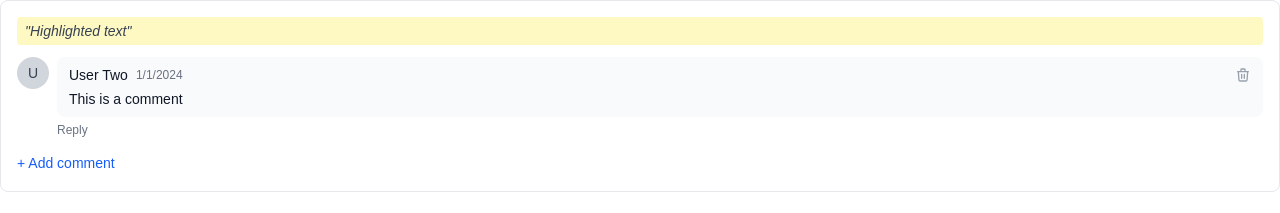
Scenario: CommentThread › should show delete confirmation for comments
Click the button titled "Delete comment": (1243, 75) [1235,67,1251,83]
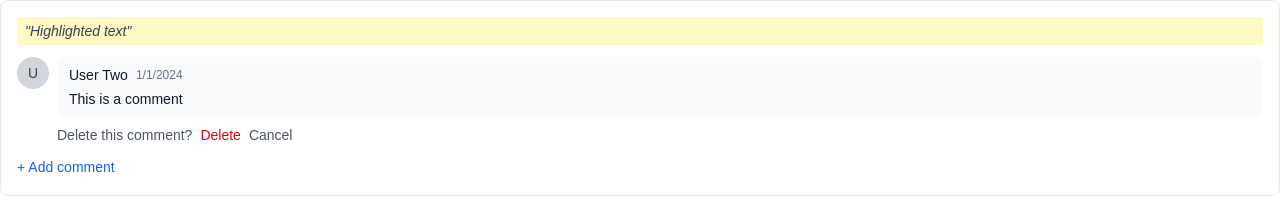
Check: the text "Delete this comment?" is shown, box [57,125,192,145]
